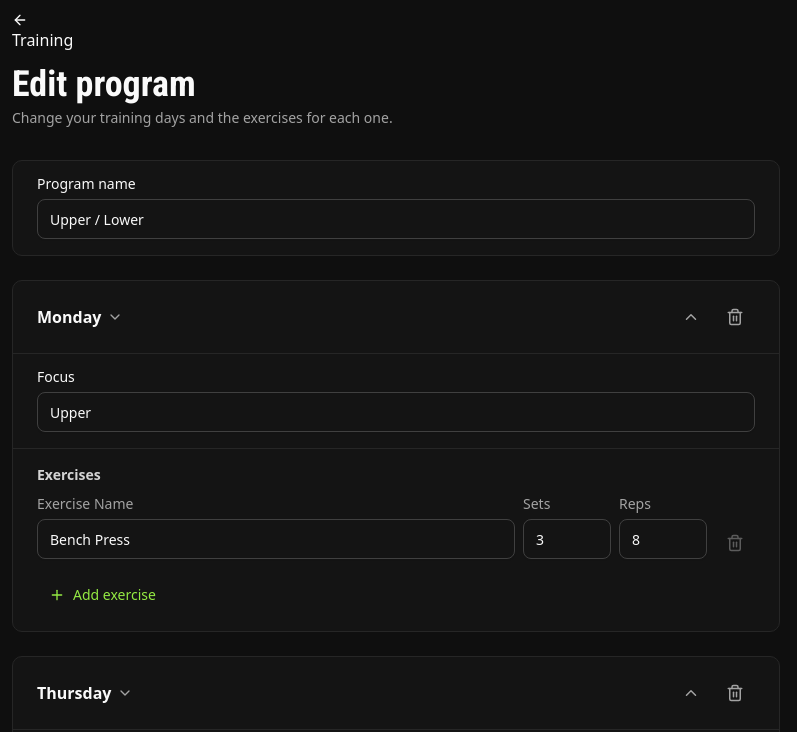
ManualProgramCreation › editing a saved program › collapses a day before anything is edited
Click the button named "Collapse Monday": (691,317) [671,297,711,337]
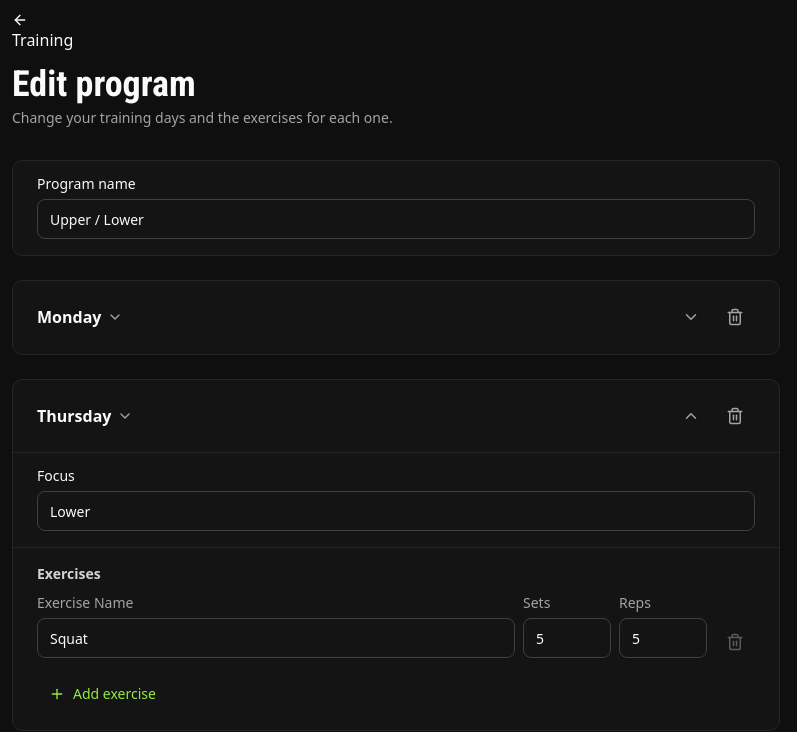
Result: the button named "Expand Monday" is collapsed at [671,297,711,337]
